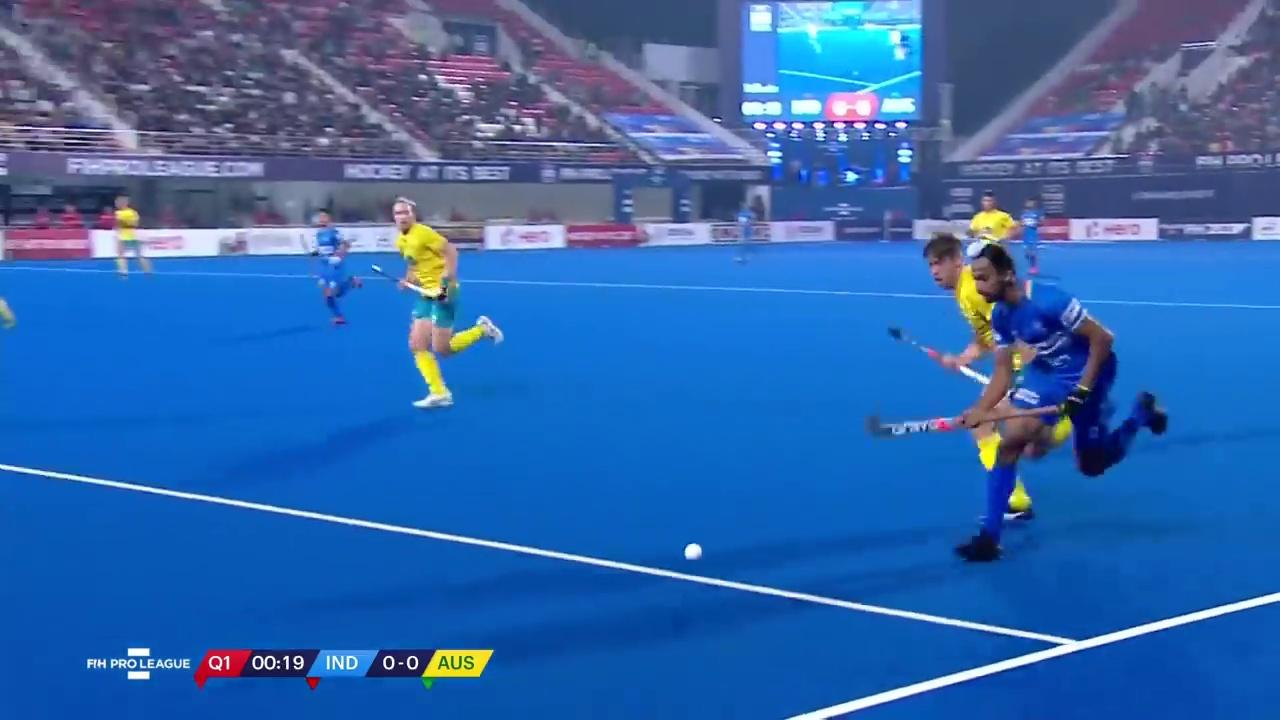ball: (664, 535, 711, 568)
